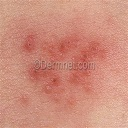Herpes Virus: (23, 39, 103, 83)
